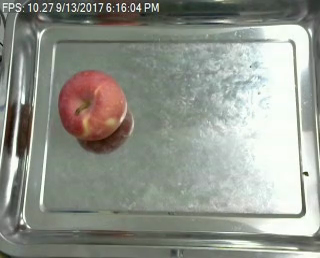Apple: (57, 69, 128, 142)
